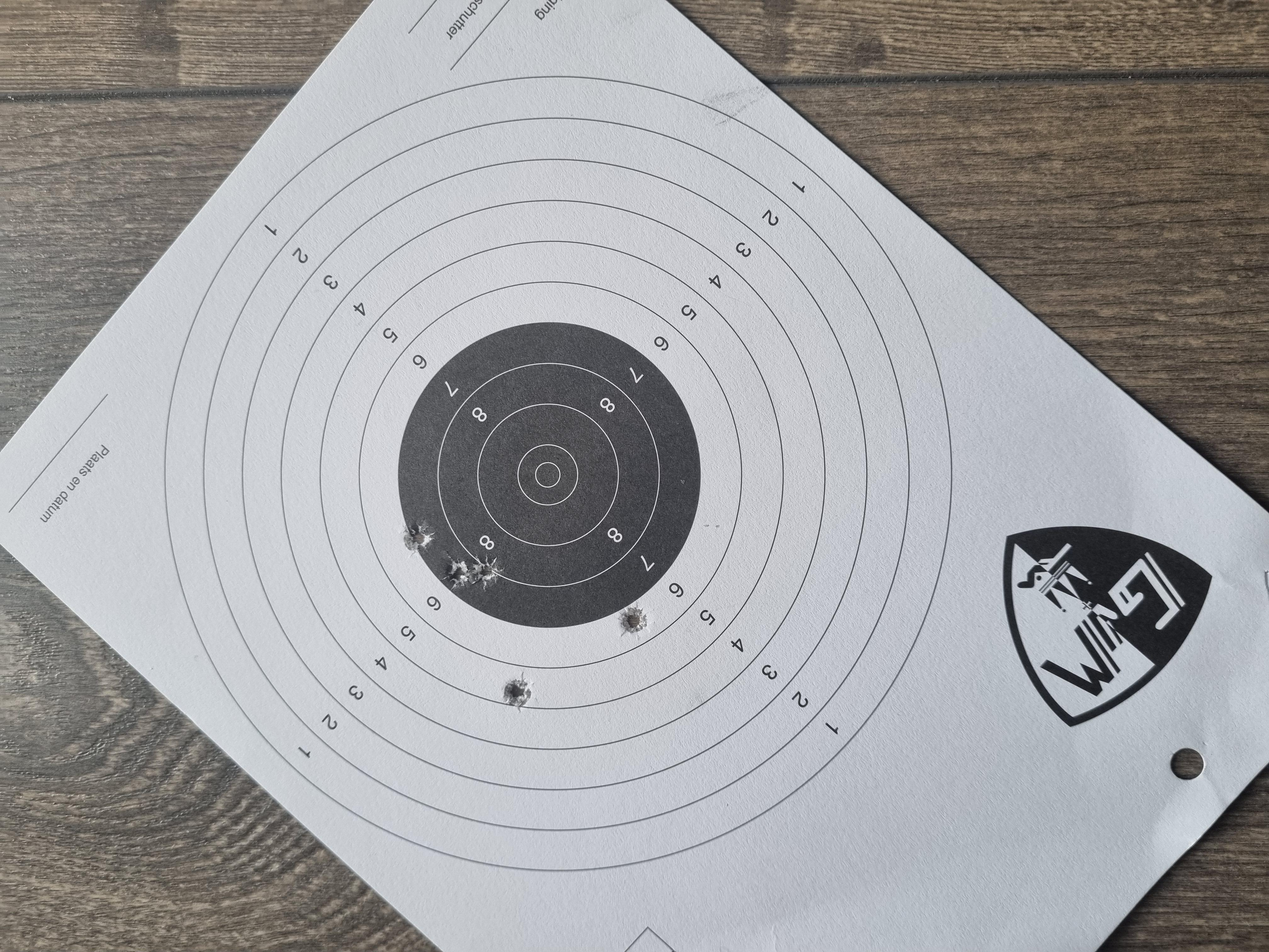hole: (325, 378, 374, 398), (481, 333, 527, 354), (528, 303, 574, 324), (484, 355, 527, 375), (420, 465, 461, 485)
